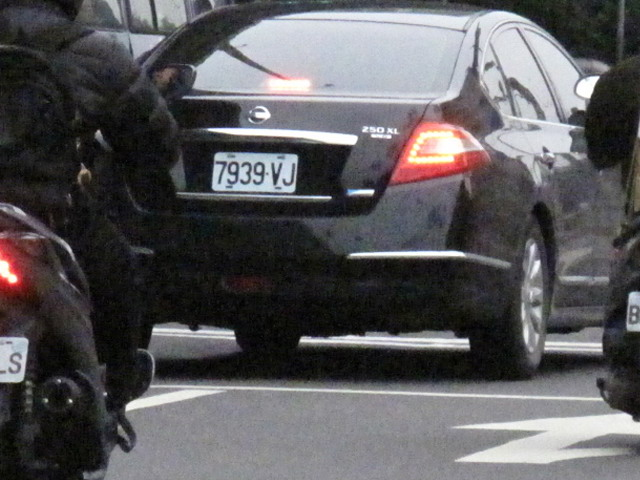plate: (211, 151, 300, 197)
